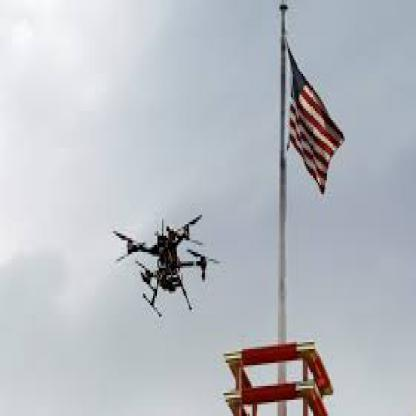UAS: (113, 212, 220, 316)
